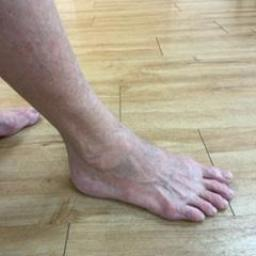Lateral View -Right Foot-: (43, 107, 243, 241)
